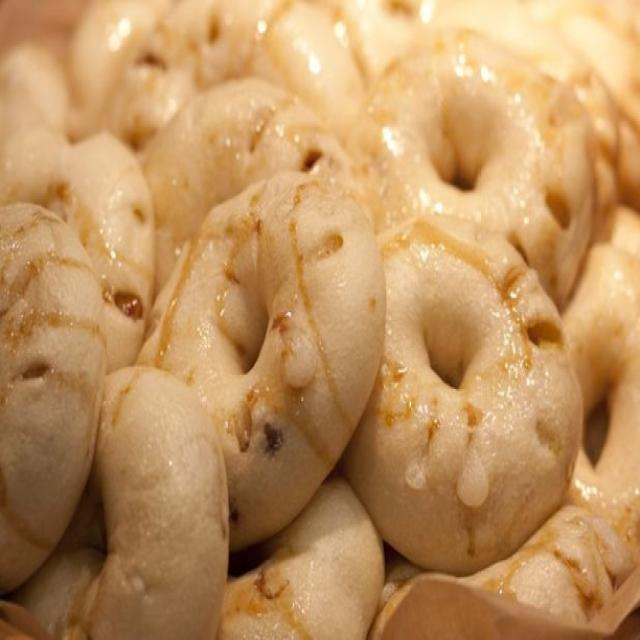面包点心: (1, 0, 632, 626)
